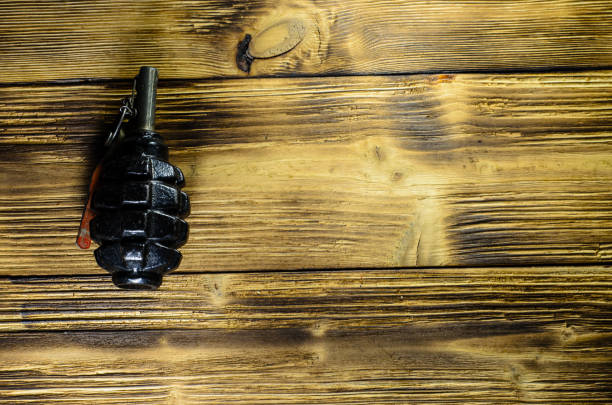e1: (74, 66, 190, 287)
